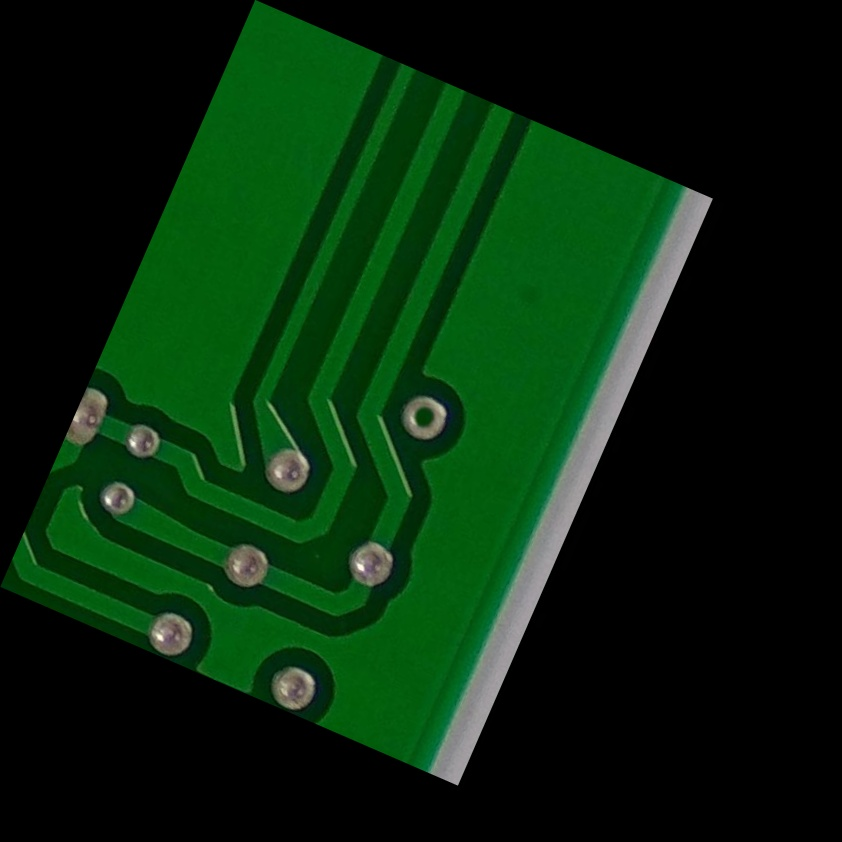missing_hole: (379, 380, 463, 462)
